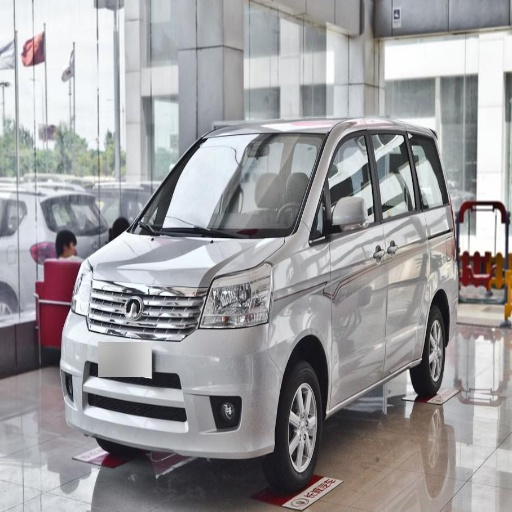front_bumper: (59, 280, 292, 451)
front_glass: (129, 135, 328, 235)
front_left_door: (314, 129, 389, 402)
trunk: (426, 210, 456, 300)
